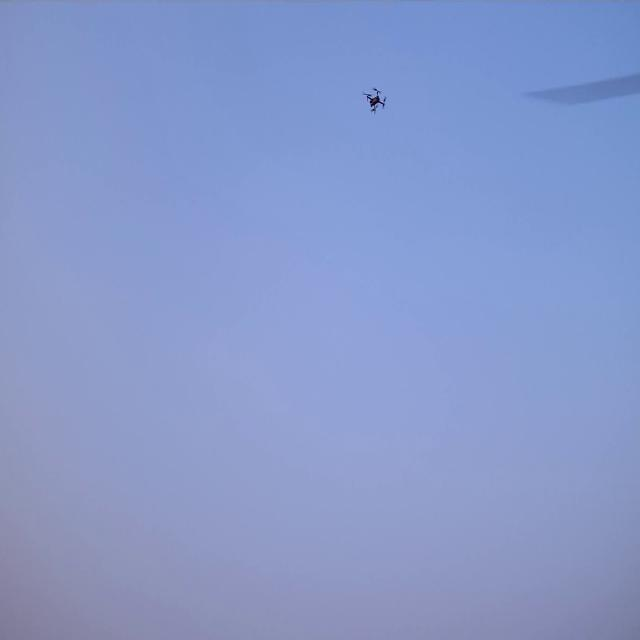UAV: (366, 88, 384, 114)
